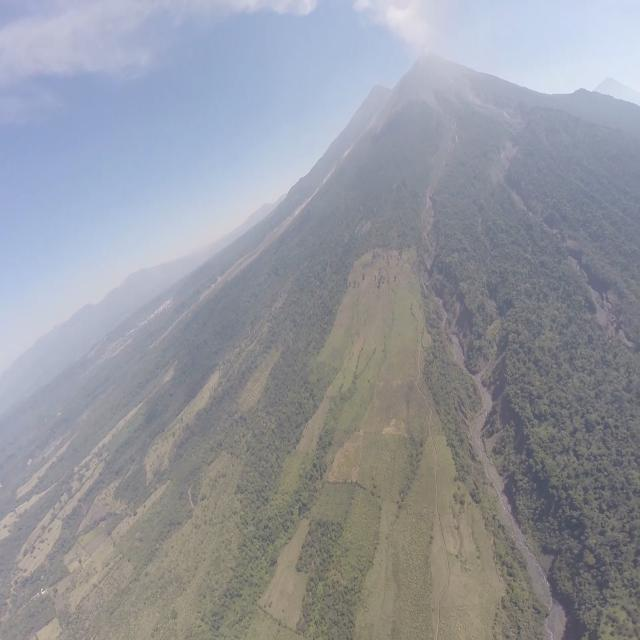Summit: (409, 48, 453, 70)
